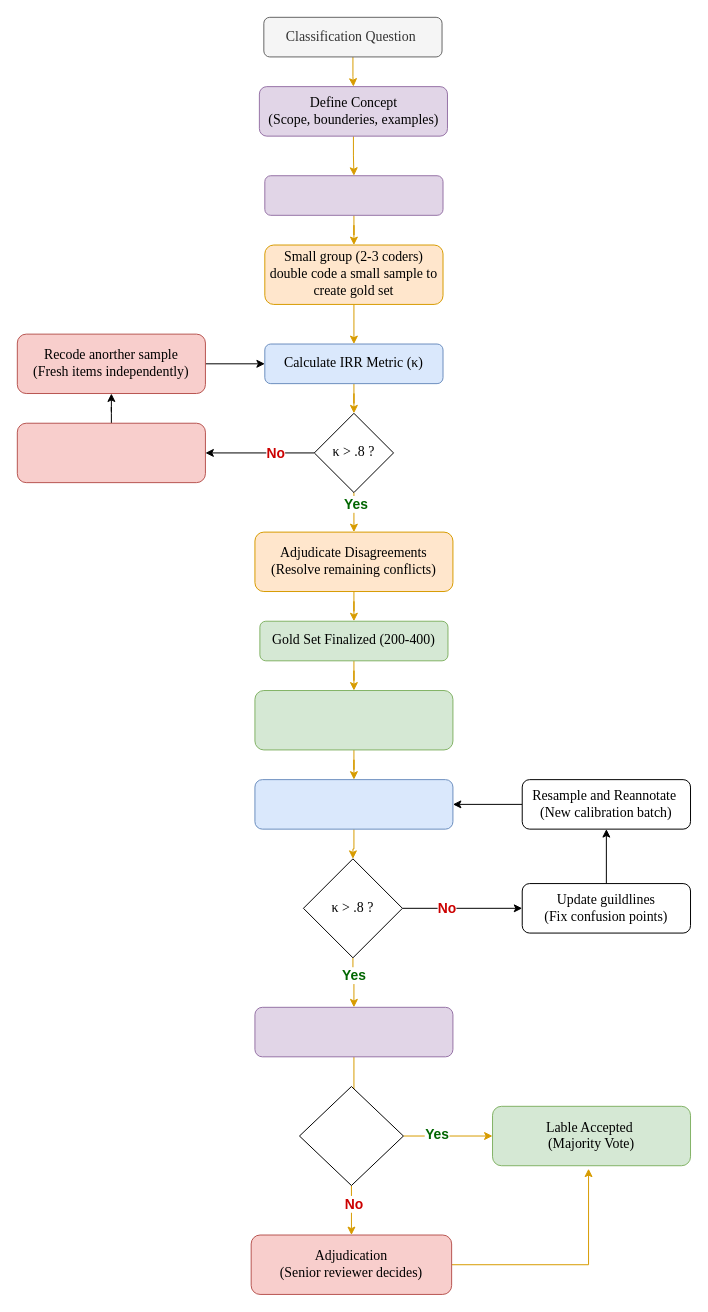
Image size: 708x1312. Some labels were removed from this diagram. The shapes that lost their labels are listed below. From the top down, each one's centre as x and y in pixels, then its label:
At [353,195]: "Build Labelig Guildlines (Edge cases, decision rules)".
At [110,452]: "Discuss disagreemnts and update guildlines".
At [353,720]: "All annotators code the Gold Set".
At [353,804]: "Calculate IRR across all".
At [353,1031]: "Distribute to all annotators (3 annotators per item)".
At [350,1136]: "≥ 2/3 agree?".
